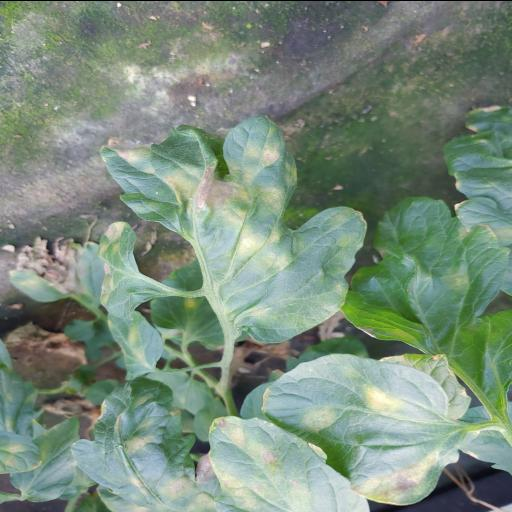Leaf Mold: (100, 112, 368, 342), (340, 196, 512, 404), (259, 352, 447, 506), (69, 380, 253, 512), (206, 415, 372, 512)
